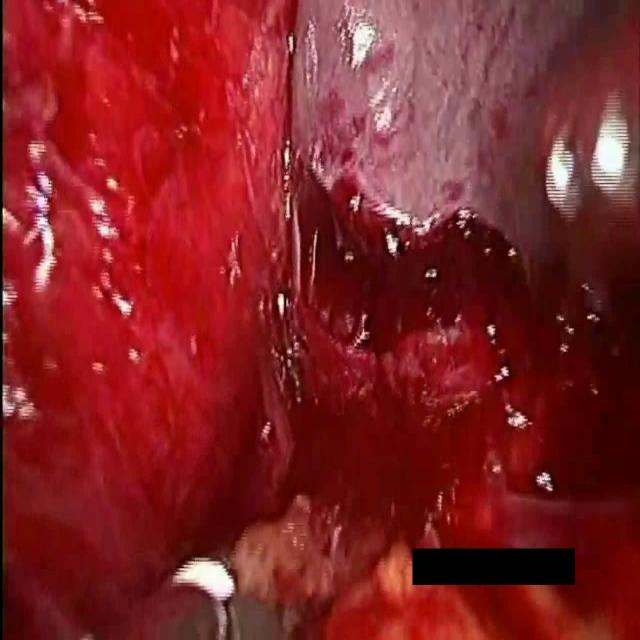surgical-tool: (134, 494, 346, 639)
